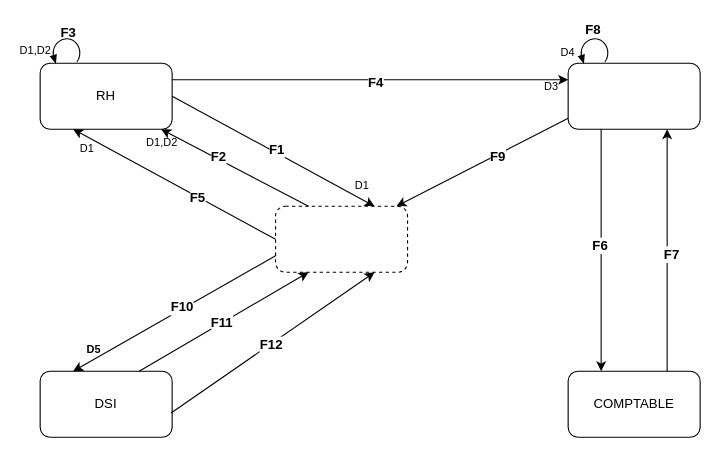
Image size: 719x457. Some labels were removed from this diagram. The shapes that lost their labels are listed below. From the top down, each one's centre as x and y in pixels, then its label:
At (x=633, y=95): "RESPONSABLE INFRASTRUCTURE".
At (x=341, y=238): "EMPLOYE".
